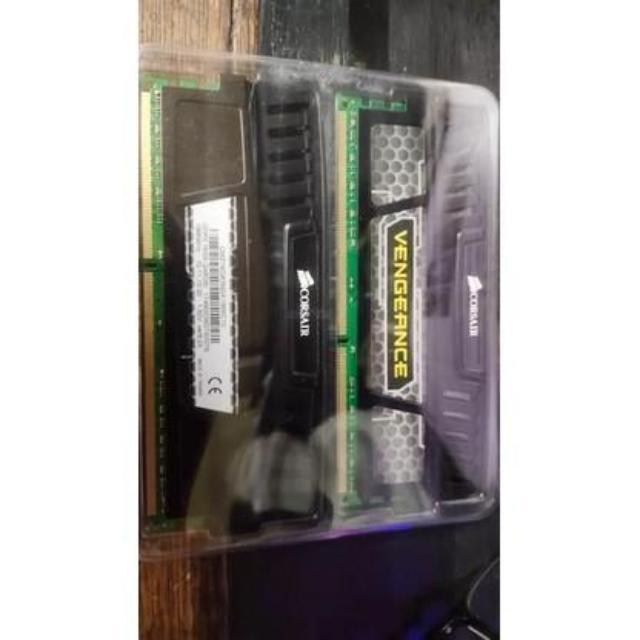RAM: (136, 70, 324, 528), (326, 86, 484, 508)
